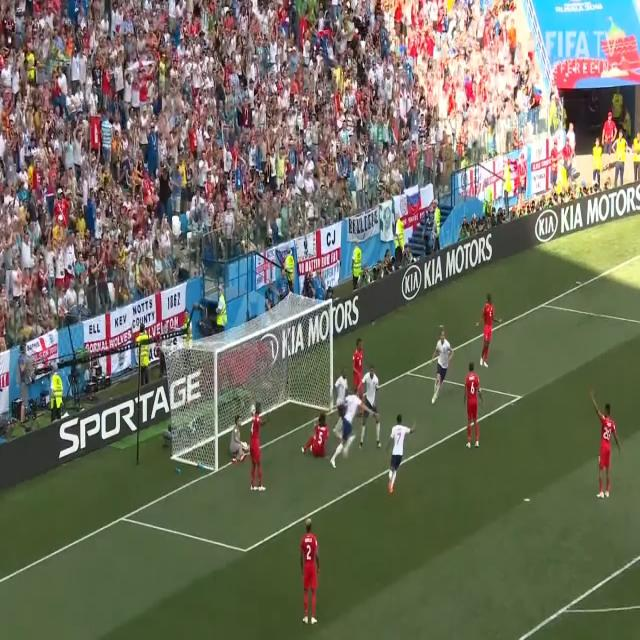ball: (247, 398, 257, 416)
player: (590, 386, 622, 502), (385, 414, 418, 495), (299, 514, 320, 628), (358, 363, 384, 453), (432, 321, 454, 409), (478, 291, 502, 370), (250, 403, 270, 496), (463, 358, 482, 453), (301, 408, 330, 462), (347, 384, 362, 464), (334, 364, 346, 442), (350, 333, 364, 391)
